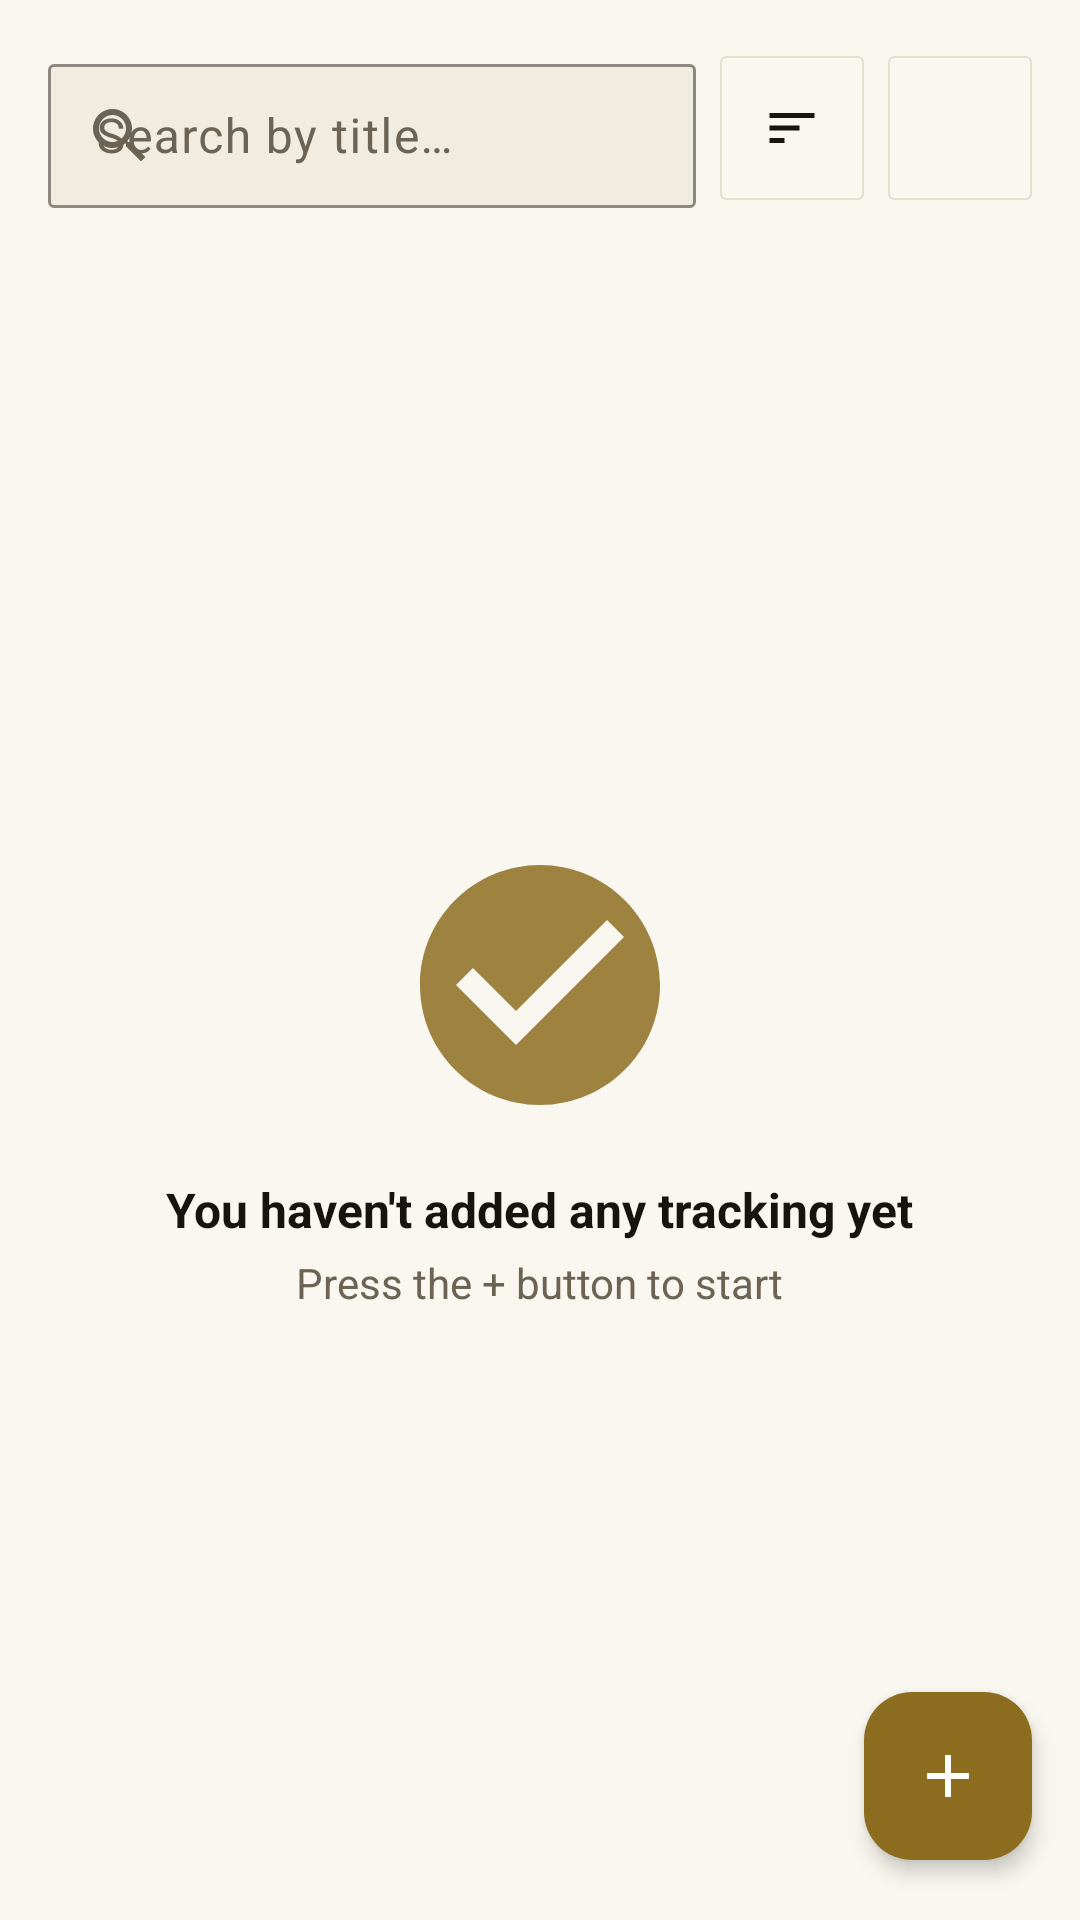

Icon click points for this 1080 x 1920 phone screenshot, format (x=x, y=y):
check circle: (x=540, y=985)
